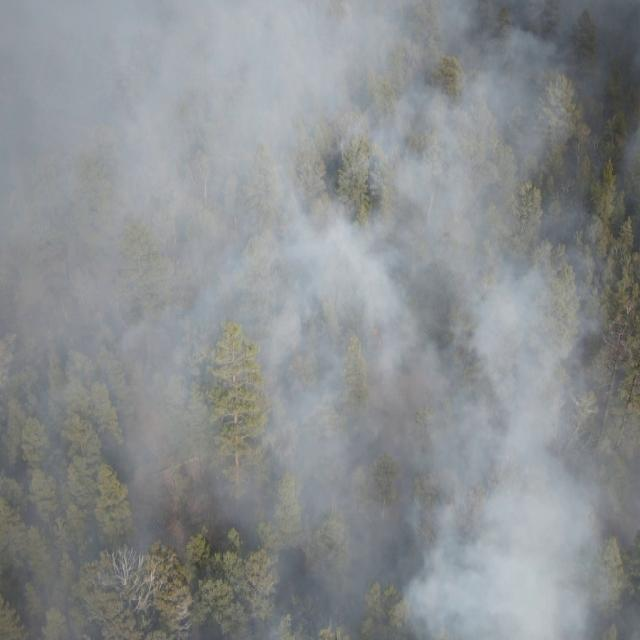smoke: (0, 0, 640, 519), (223, 514, 640, 640), (0, 512, 175, 640), (175, 577, 223, 640)
